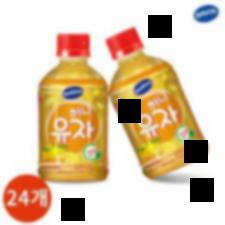honeyyuja: (37, 26, 109, 184)
